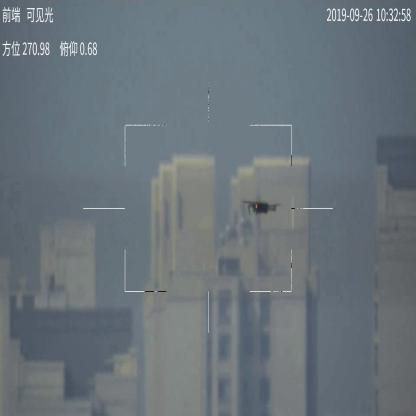uav: (244, 196, 282, 215)
